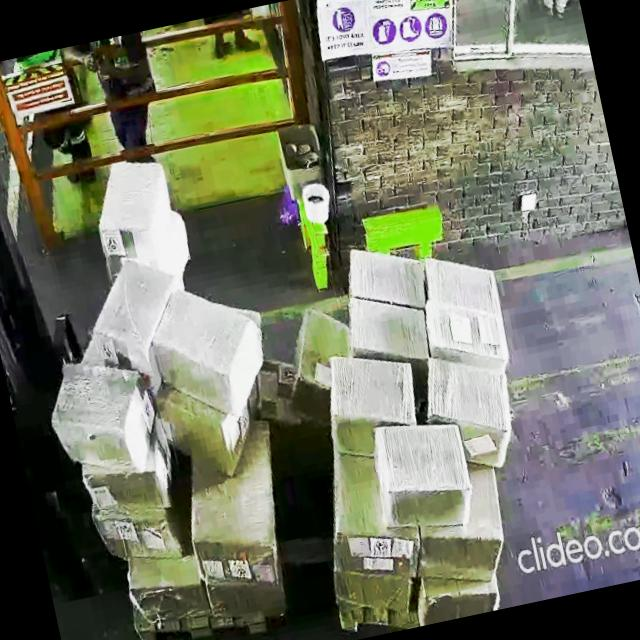Box: (44, 353, 161, 479), (368, 414, 480, 543), (158, 278, 266, 407), (92, 150, 174, 254), (323, 352, 416, 442), (85, 266, 162, 368), (424, 357, 515, 438), (193, 528, 284, 599), (340, 235, 420, 314), (88, 459, 175, 524), (90, 506, 178, 570), (350, 292, 430, 361), (332, 518, 413, 584), (332, 558, 412, 624), (422, 526, 498, 590), (418, 574, 500, 624), (134, 577, 206, 623)
